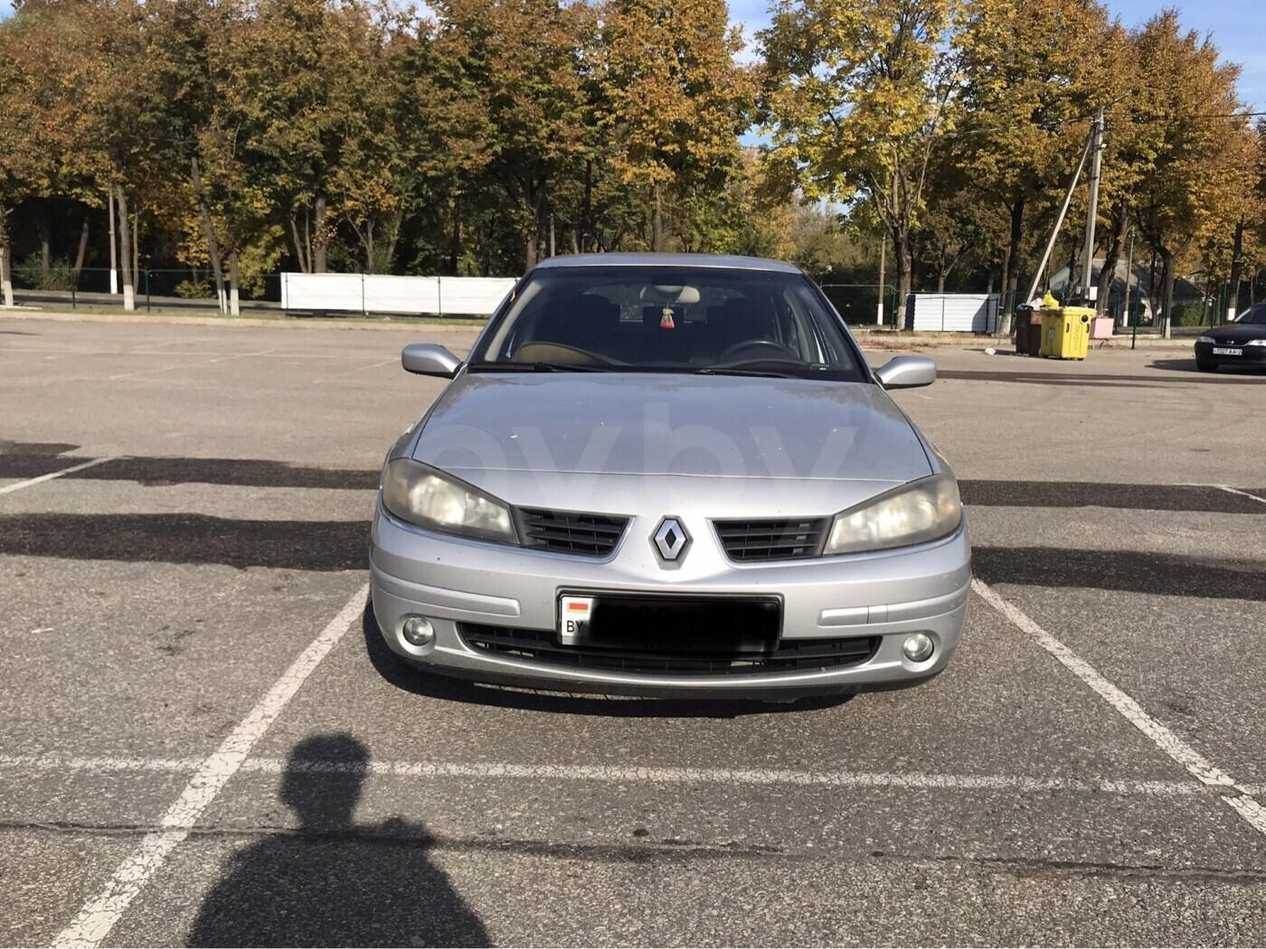Laguna_2005-2007: (360, 240, 982, 730)
